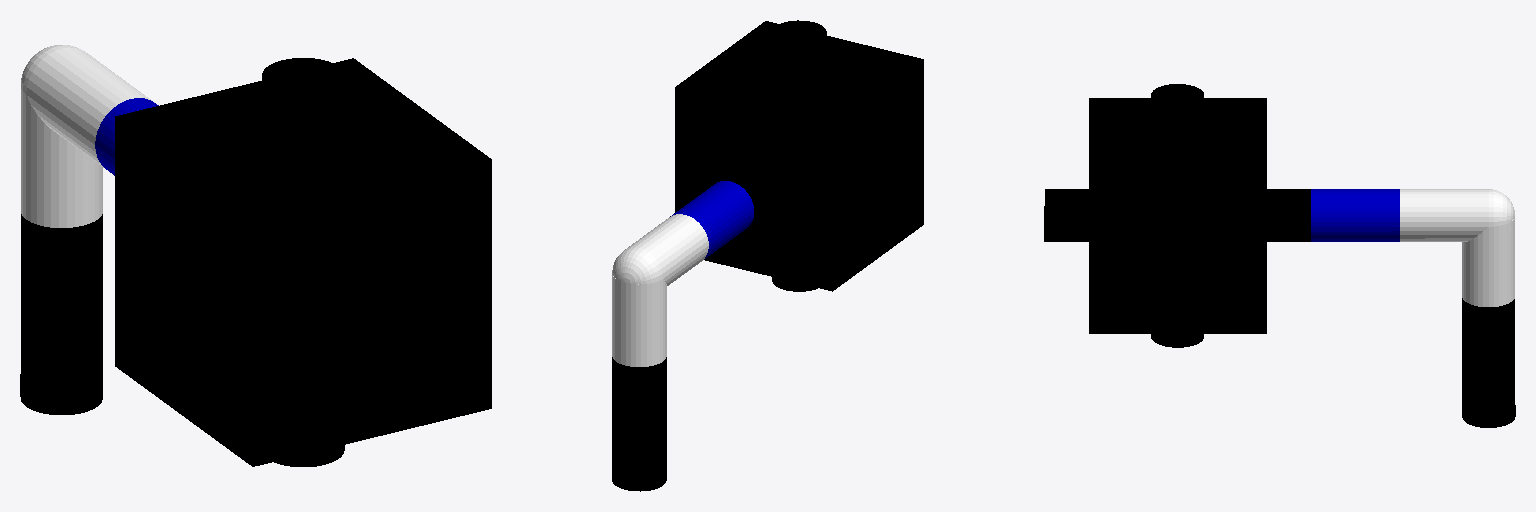
The robot description file, URDF, robot "ModularBot":
<?xml version="1.0" ?>
<!-- =================================================================================== -->
<!-- |    This document was autogenerated by xacro from [local-path]/advr-superbuild/external/modular/urdf/ModularBot.urdf.xacro | -->
<!-- |    EDITING THIS FILE BY HAND IS NOT RECOMMENDED                                 | -->
<!-- =================================================================================== -->
<robot name="ModularBot" xmlns:xacro="http://ros.org/wiki/xacro">
  <gazebo>
    <plugin filename="libGazeboXBotPlugin.so" name="gazebo_xbot_plugin">
      <path_to_config_file>configs/ADVR_shared/ModularBot/configs/config_ModularBot.yaml</path_to_config_file>
    </plugin>
  </gazebo>
  <material name="blue">
    <color rgba="0 0 0.8 1"/>
  </material>
  <material name="black">
    <color rgba="0 0 0 1"/>
  </material>
  <material name="white">
    <color rgba="1 1 1 1"/>
  </material>
  <material name="grey">
    <color rgba="0.5 0.5 0.5 1"/>
  </material>
  <link name="world"/>
  <joint name="world" type="fixed">
    <parent link="world"/>
    <child link="base_link"/>
  </joint>
  <link name="base_link"/>
  <joint name="fixed" type="fixed">
    <parent link="base_link"/>
    <child link="L_0a"/>
    <axis rpy="0 0 0" xyz="0 0 1"/>
    <origin rpy="0.0 0.0 0.0" xyz="0.0 0.0 0.0"/>
  </joint>
  <link name="L_0a">
    <visual>
      <origin rpy="0 0 0" xyz="0 0 0.2"/>
      <geometry>
        <box size="0.4 0.4 0.4"/>
      </geometry>
      <material name="black"/>
    </visual>
    <collision>
      <origin rpy="0 0 0" xyz="0 0 0.2"/>
      <geometry>
        <box size="0.4 0.4 0.4"/>
      </geometry>
    </collision>
    <inertial>
      <mass value="2"/>
      <inertia ixx="1.0" ixy="0.0" ixz="0.0" iyy="1.0" iyz="0.0" izz="1.0"/>
    </inertial>
  </link>
  <link name="L_0a_con1">
    <visual>
      <origin rpy="0 0 0" xyz="0 0 0.05"/>
      <geometry>
        <cylinder length="0.1" radius="0.06"/>
      </geometry>
      <material name="black"/>
    </visual>
    <collision>
      <geometry>
        <cylinder length="0.1" radius="0.06"/>
      </geometry>
    </collision>
    <inertial>
      <mass value="0.5"/>
      <inertia ixx="1.0" ixy="0.0" ixz="0.0" iyy="1.0" iyz="0.0" izz="1.0"/>
    </inertial>
  </link>
  <link name="L_0a_con2">
    <visual>
      <origin rpy="0 0 0" xyz="0 0 0.05"/>
      <geometry>
        <cylinder length="0.1" radius="0.06"/>
      </geometry>
      <material name="black"/>
    </visual>
    <collision>
      <geometry>
        <cylinder length="0.1" radius="0.06"/>
      </geometry>
    </collision>
    <inertial>
      <mass value="0.5"/>
      <inertia ixx="1.0" ixy="0.0" ixz="0.0" iyy="1.0" iyz="0.0" izz="1.0"/>
    </inertial>
  </link>
  <link name="L_0a_con3">
    <visual>
      <origin rpy="0 0 0" xyz="0 0 0.05"/>
      <geometry>
        <cylinder length="0.1" radius="0.06"/>
      </geometry>
      <material name="black"/>
    </visual>
    <collision>
      <geometry>
        <cylinder length="0.1" radius="0.06"/>
      </geometry>
    </collision>
    <inertial>
      <mass value="0.5"/>
      <inertia ixx="1.0" ixy="0.0" ixz="0.0" iyy="1.0" iyz="0.0" izz="1.0"/>
    </inertial>
  </link>
  <link name="L_0a_con4">
    <visual>
      <origin rpy="0 0 0" xyz="0 0 0.05"/>
      <geometry>
        <cylinder length="0.1" radius="0.06"/>
      </geometry>
      <material name="black"/>
    </visual>
    <collision>
      <geometry>
        <cylinder length="0.1" radius="0.06"/>
      </geometry>
    </collision>
    <inertial>
      <mass value="0.5"/>
      <inertia ixx="1.0" ixy="0.0" ixz="0.0" iyy="1.0" iyz="0.0" izz="1.0"/>
    </inertial>
  </link>
  <joint name="L_0a_fixed_1" type="fixed">
    <parent link="L_0a"/>
    <child link="L_0a_con1"/>
    <axis rpy="0 0 0" xyz="0 0 1"/>
    <origin rpy="3.14 0 0" xyz="0 0 0.0"/>
  </joint>
  <joint name="L_0a_fixed_2" type="fixed">
    <parent link="L_0a"/>
    <child link="L_0a_con2"/>
    <axis rpy="0 0 0" xyz="0 0 1"/>
    <origin rpy="1.57 0 0" xyz="0 -0.2 0.2"/>
  </joint>
  <joint name="L_0a_fixed_3" type="fixed">
    <parent link="L_0a"/>
    <child link="L_0a_con3"/>
    <axis rpy="0 0 0" xyz="0 0 1"/>
    <origin rpy="0 0 0" xyz="0 0 0.4"/>
  </joint>
  <joint name="L_0a_fixed_4" type="fixed">
    <parent link="L_0a"/>
    <child link="L_0a_con4"/>
    <axis rpy="0 0 0" xyz="0 0 1"/>
    <origin rpy="-1.57 0 0" xyz="0 0.2 0.2"/>
  </joint>
  <joint name="fixed_J1_A" type="fixed">
    <axis rpy="0 0 0" xyz="0 0 1"/>
    <parent link="L_0a_con4"/>
    <child link="J1_A_stator"/>
    <origin rpy="0.0 -0.0 0.0" xyz="0.0 0.0 0.1"/>
  </joint>
  <link name="J1_A_stator">
    <visual>
      <origin rpy="0 0 0" xyz="0 0 0.1"/>
      <geometry>
        <cylinder length="0.2" radius="0.06"/>
      </geometry>
      <material name="blue"/>
    </visual>
    <collision>
      <origin rpy="0 0 0" xyz="0 0 0.1"/>
      <geometry>
        <cylinder length="0.2" radius="0.06"/>
      </geometry>
    </collision>
    <inertial>
      <origin rpy="0 0 0" xyz="0 0 0.1"/>
      <mass value="0.5"/>
      <inertia ixx="0.00211666666667" ixy="0.0" ixz="0.0" iyy="0.00211666666667" iyz="0.0" izz="0.0009"/>
    </inertial>
  </link>
  <gazebo reference="J1_A_stator">
    <mu1>0.2</mu1>
    <mu2>0.2</mu2>
    <kp>1000000.0</kp>
    <kd>1.0</kd>
    <maxVel>0.0</maxVel>
    <minDepth>0.0001</minDepth>
    <material>Gazebo/Blue</material>
  </gazebo>
  <joint name="J1_A" type="revolute">
    <axis rpy="0 0 0" xyz="0 0 1"/>
    <parent link="J1_A_stator"/>
    <child link="L_1_A"/>
    <origin rpy="0.0 -0.0 0.0" xyz="0.0 0.0 0.2"/>
    <limit effort="235" lower="-3.14" upper="3.14" velocity="5.7"/>
  </joint>
  <link name="L_1_A">
    <inertial>
      <origin rpy="0 0 0" xyz="0 0 -0.0635"/>
      <mass value="0.5"/>
      <inertia ixx="0.00268816666667" ixy="0.0" ixz="0.0" iyy="0.00268816666667" iyz="0.0" izz="0.0000148"/>
    </inertial>
  </link>
  <link name="L_1_elbow_1_A">
    <visual>
      <origin rpy="0 0 0" xyz="0 0 0.1"/>
      <geometry>
        <cylinder length="0.2" radius="0.06"/>
      </geometry>
      <material name="white"/>
    </visual>
    <visual>
      <origin rpy="1.57 0 0" xyz="0 0.1 0.2"/>
      <geometry>
        <cylinder length="0.2" radius="0.06"/>
      </geometry>
      <material name="white"/>
    </visual>
    <visual>
      <origin rpy="0 0 0" xyz="0 0 0.2"/>
      <geometry>
        <sphere radius="0.06"/>
      </geometry>
      <material name="white"/>
    </visual>
    <collision>
      <origin rpy="0 0 0" xyz="0 0 0.1"/>
      <geometry>
        <cylinder length="0.2" radius="0.06"/>
      </geometry>
    </collision>
    <inertial>
      <origin rpy="0 0 0" xyz="0 0 0.1"/>
      <mass value="0.5"/>
      <inertia ixx="0.0171166666667" ixy="0.0" ixz="0.0" iyy="0.0140083333333" iyz="0.0" izz="0.00400833333333"/>
    </inertial>
    <collision>
      <origin rpy="1.57 0 0" xyz="0 0.1 0.2"/>
      <geometry>
        <cylinder length="0.2" radius="0.06"/>
      </geometry>
    </collision>
    <collision>
      <origin rpy="0 0 0" xyz="0 0 0.2"/>
      <geometry>
        <sphere radius="0.06"/>
      </geometry>
    </collision>
  </link>
  <gazebo reference="L_1_elbow_1_A">
    <mu1>0.2</mu1>
    <mu2>0.2</mu2>
    <kp>1000000.0</kp>
    <kd>1.0</kd>
    <maxVel>0.0</maxVel>
    <minDepth>0.0001</minDepth>
    <material>Gazebo/White</material>
  </gazebo>
  <joint name="L_1_fixed_joint_1_A" type="fixed">
    <axis rpy="0 0 0" xyz="0 0 1"/>
    <parent link="L_1_A"/>
    <child link="L_1_elbow_1_A"/>
    <origin rpy="0.0 -0.0 0.0" xyz="0.0 0.0 0.0"/>
  </joint>
  <link name="L_1_link_2_A">
    <visual>
      <origin rpy="0 0 0" xyz="0 0 0.15"/>
      <geometry>
        <cylinder length="0.3" radius="0.06"/>
      </geometry>
      <material name="black"/>
    </visual>
    <collision>
      <origin rpy="0 0 0" xyz="0 0 0.15"/>
      <geometry>
        <cylinder length="0.3" radius="0.06"/>
      </geometry>
    </collision>
    <inertial>
      <origin rpy="0 0 0" xyz="0 0 0.15"/>
      <mass value="0.5"/>
      <inertia ixx="0.0042" ixy="0.0" ixz="0.0" iyy="0.0042" iyz="0.0" izz="0.0009"/>
    </inertial>
  </link>
  <gazebo reference="L_1_link_2_A">
    <mu1>0.2</mu1>
    <mu2>0.2</mu2>
    <kp>1000000.0</kp>
    <kd>1.0</kd>
    <maxVel>0.0</maxVel>
    <minDepth>0.0001</minDepth>
    <material>Gazebo/White</material>
  </gazebo>
  <joint name="L_1_fixed_joint_2_A" type="fixed">
    <axis rpy="0 0 0" xyz="0 0 1"/>
    <parent link="L_1_elbow_1_A"/>
    <child link="L_1_link_2_A"/>
    <origin rpy="-1.57 -0.0 0.0" xyz="0.0 0.199999936586 0.200159265342"/>
  </joint>
</robot>

--- What the picture shows (computed from the rendered views, not written in the file) ---
Views: 3 orthographic renders of the robot side by side, from view 1: azimuth 30°, elevation 25°; view 2: azimuth 150°, elevation 25°; view 3: azimuth 270°, elevation 25°.
Model ModularBot with 11 links and 10 joints (1 revolute, 9 fixed), rooted at world, posed every joint at zero.
Visible links, largest first — view 1: L_0a, L_1_link_2_A, L_1_elbow_1_A, L_0a_con2, L_0a_con3, J1_A_stator, L_0a_con1; view 2: L_0a, L_1_elbow_1_A, L_1_link_2_A, L_0a_con3, J1_A_stator, L_0a_con4; view 3: L_0a, L_1_elbow_1_A, L_1_link_2_A, J1_A_stator, L_0a_con3, L_0a_con2, L_0a_con4, L_0a_con1.
Boxes of the visible links, bbox=[...] form: L_0a: bbox=[115, 58, 491, 466]; L_1_link_2_A: bbox=[20, 214, 102, 414]; L_1_elbow_1_A: bbox=[21, 45, 154, 227]; L_0a_con2: bbox=[336, 275, 441, 376]; L_0a_con3: bbox=[262, 58, 343, 154]; J1_A_stator: bbox=[95, 98, 158, 175]; L_0a_con1: bbox=[274, 445, 344, 466]; L_0a: bbox=[675, 21, 923, 291]; L_1_elbow_1_A: bbox=[612, 214, 708, 366]; L_1_link_2_A: bbox=[612, 357, 666, 491]; L_0a_con3: bbox=[772, 20, 826, 84]; J1_A_stator: bbox=[670, 181, 753, 258]; L_0a_con4: bbox=[718, 164, 776, 226]; L_0a: bbox=[1089, 98, 1266, 333]; L_1_elbow_1_A: bbox=[1400, 189, 1514, 306]; L_1_link_2_A: bbox=[1462, 298, 1515, 427]; J1_A_stator: bbox=[1311, 189, 1399, 241]; L_0a_con3: bbox=[1151, 84, 1203, 146]; L_0a_con2: bbox=[1044, 189, 1088, 241]; L_0a_con4: bbox=[1267, 189, 1310, 241]; L_0a_con1: bbox=[1151, 334, 1203, 347].
Size in the robot's own frame: 0.4 by 1.06 by 0.7997 metres.
Geometry: primitives only (box / cylinder / sphere), no mesh files.